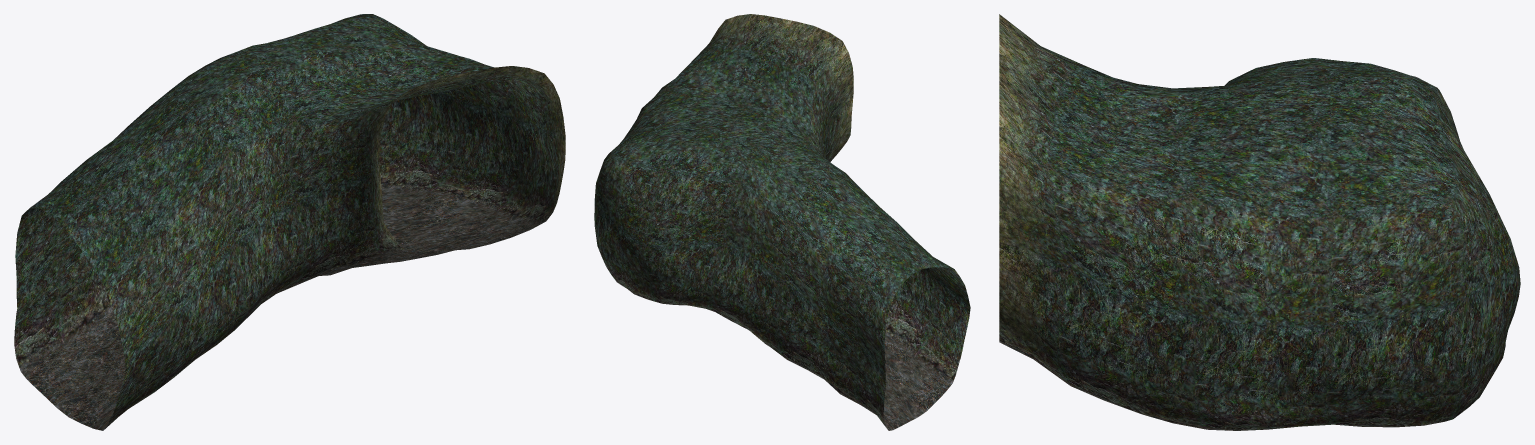
The model's file is thm_all_cave_flatland_s01_damprock_r10_mesh_r10.fbx.
3 renders of one model, left to right at view 1: azimuth 30°, elevation 25°; view 2: azimuth 150°, elevation 25°; view 3: azimuth 270°, elevation 25°, orthographic. The views are drawn at different scales.
Parts seen in each view (by area): view 1: mesh_node; view 2: mesh_node; view 3: mesh_node.
Part boxes in pixels (bbox=[...]): mesh_node: bbox=[14, 14, 565, 430]; mesh_node: bbox=[594, 14, 970, 430]; mesh_node: bbox=[999, 14, 1520, 430].
Size of the model in its own units: 50.15 by 41.09 by 38.79.
